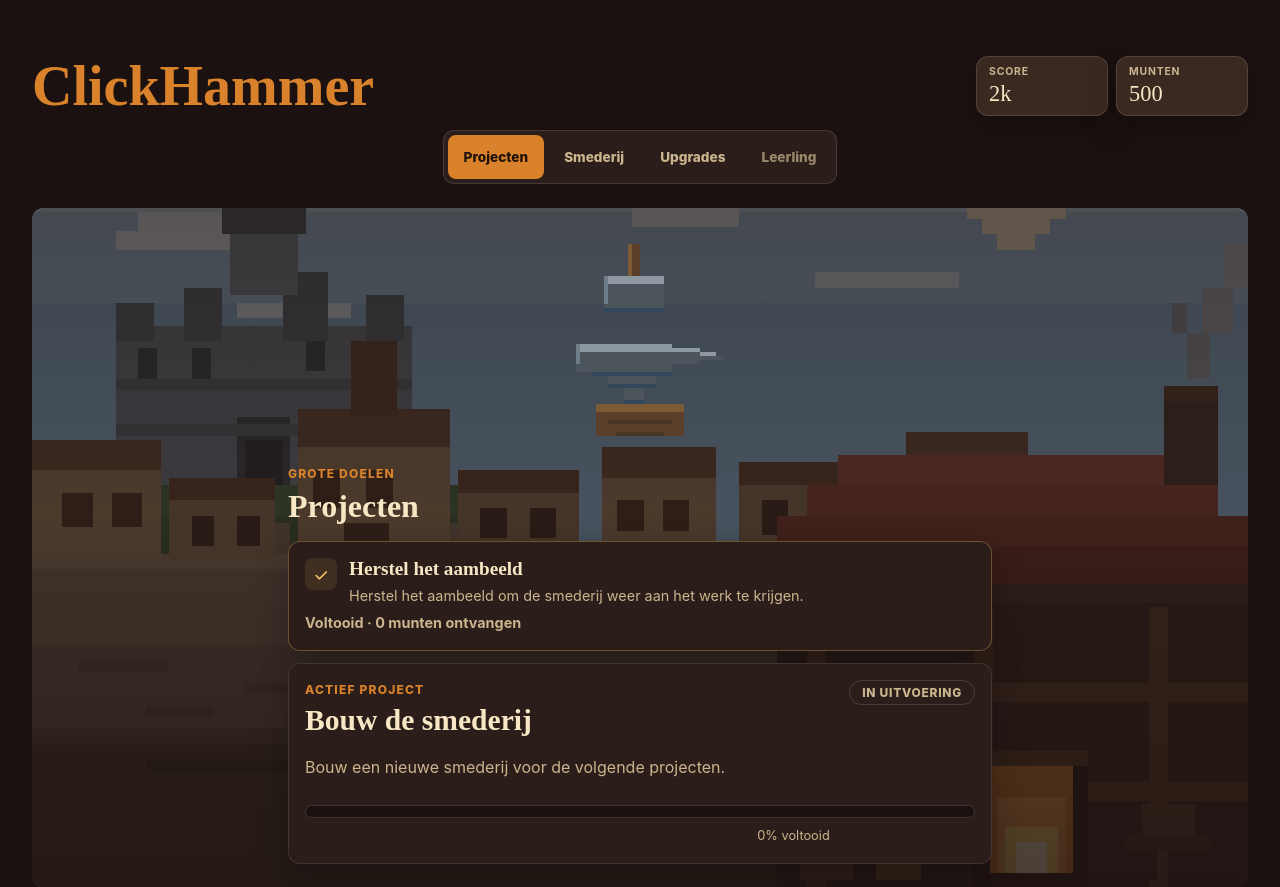
auto-clicker integration in App › enables the tab after buying the upgrade and renders the panel
This screenshot has width=1280, height=887.
Click the tab with class "game-navigation__tab" showing "Upgrades" at (693, 157), box [644,135,742,179]
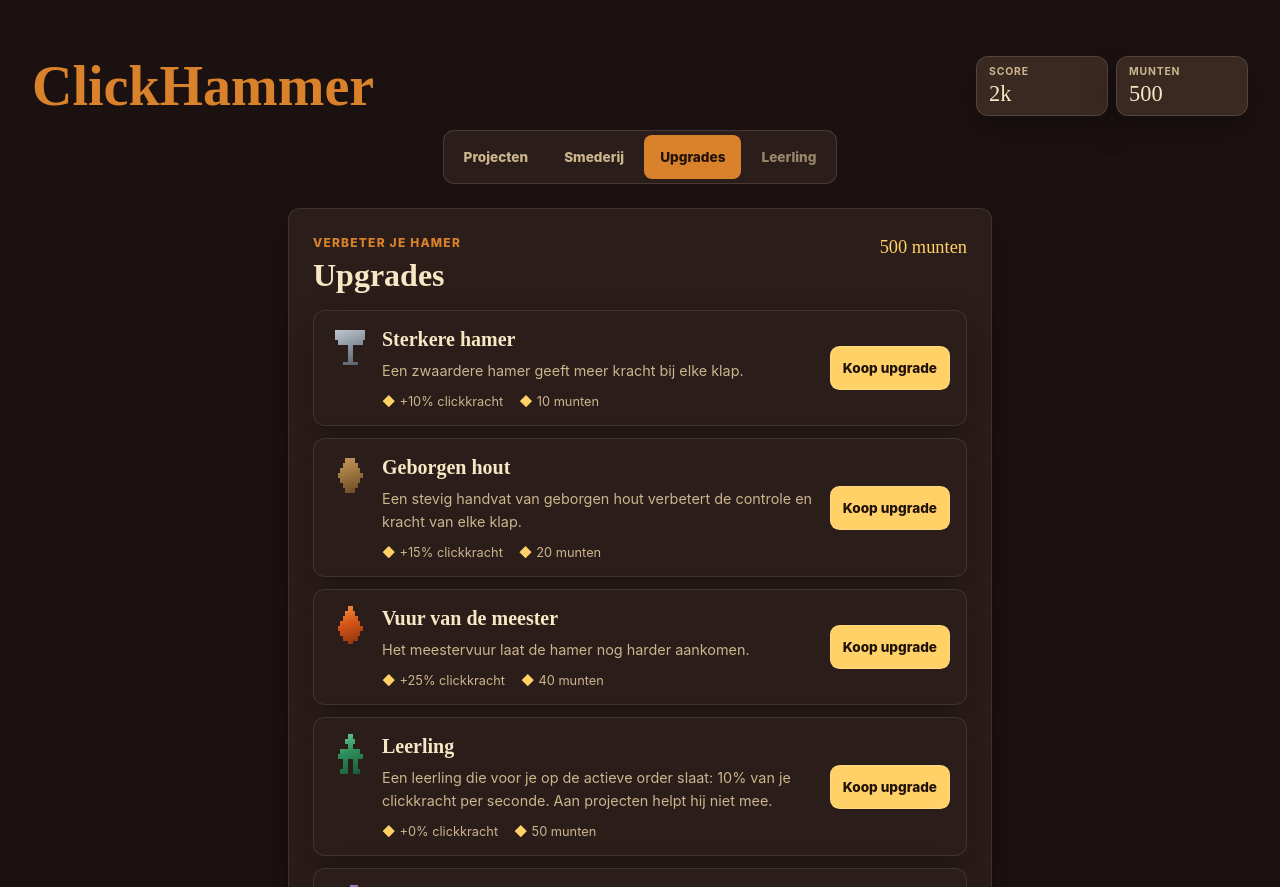
Expected: the tab with class "game-navigation__tab" showing "Leerling" is disabled, [746,135,832,179]
Expected: the element with class "upgrade-item" that starts with "Leerling" is shown, [313,717,967,856]
// De leerling kost 50 munten en de save heeft er 500.
Click the 4th button "Koop upgrade" at (890, 787), box [830,765,950,809]
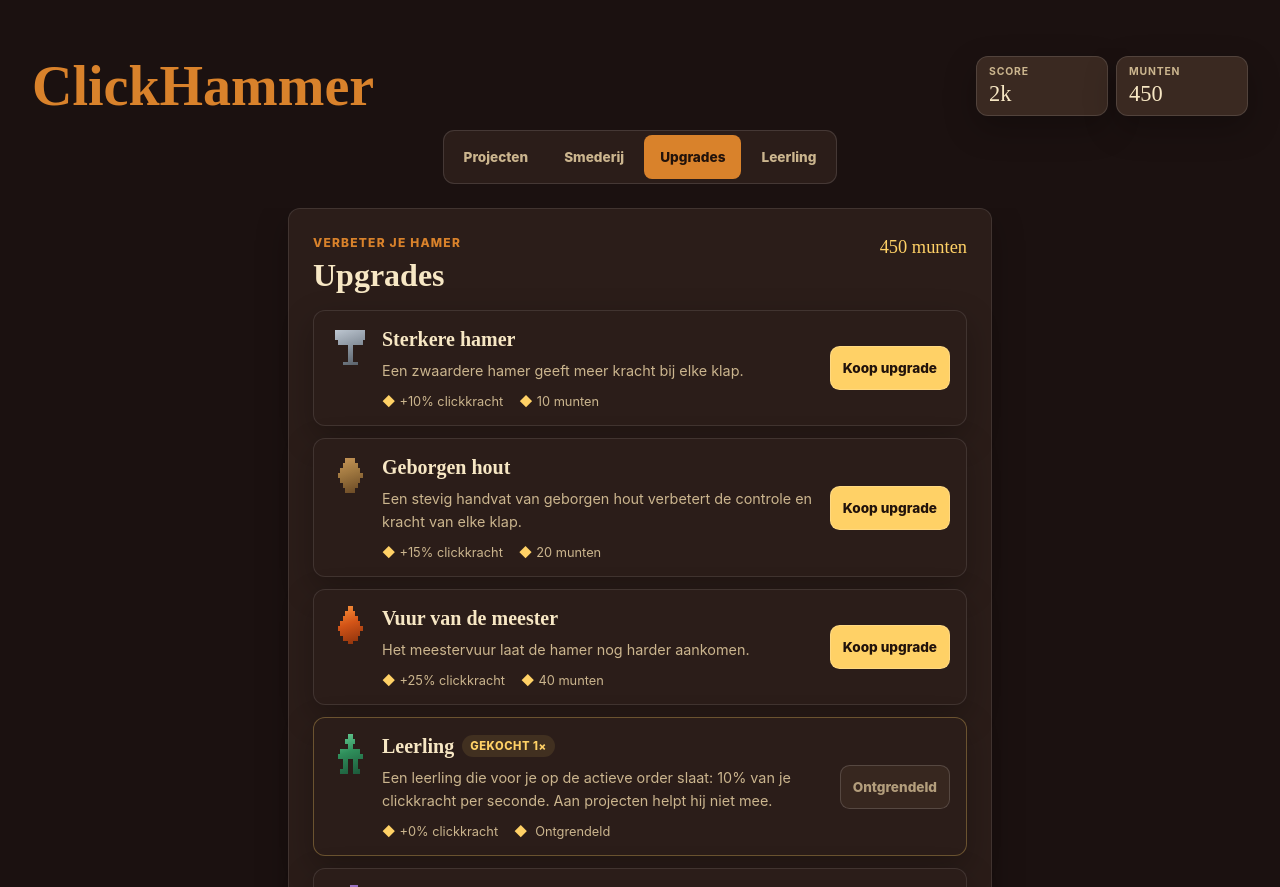
Expected: the tab with class "game-navigation__tab" showing "Leerling" is enabled
Expected: the button "Ontgrendeld" is shown, [840,765,950,809]
Expected: the button "Ontgrendeld" is disabled, [840,765,950,809]
Click the tab with class "game-navigation__tab" showing "Leerling" at (789, 157), box [746,135,832,179]
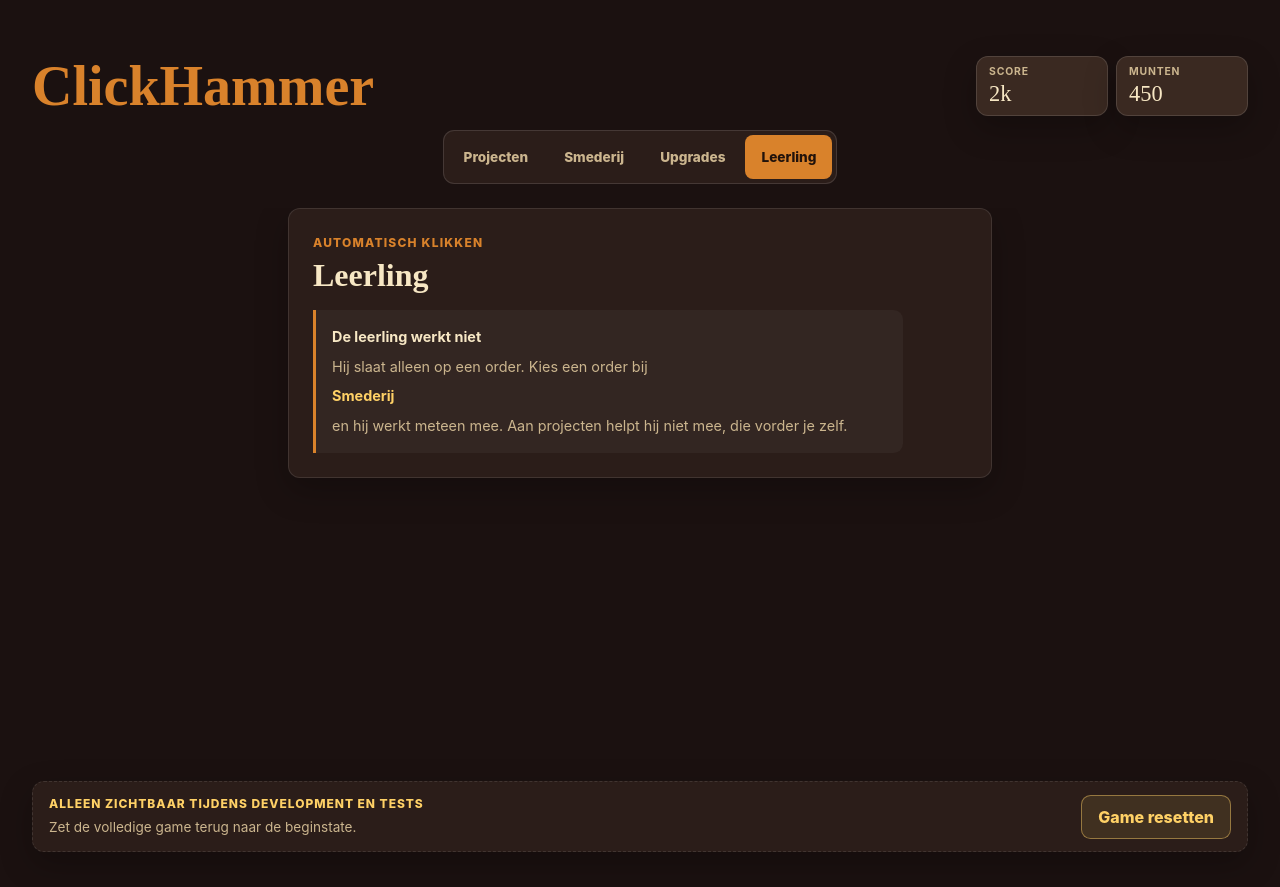
Expected: the heading with id "apprentice-panel-title" reads "Leerling", [313,257,428,293]
Expected: the panel with id "game-panel-apprentice" is shown, [288,208,992,478]
